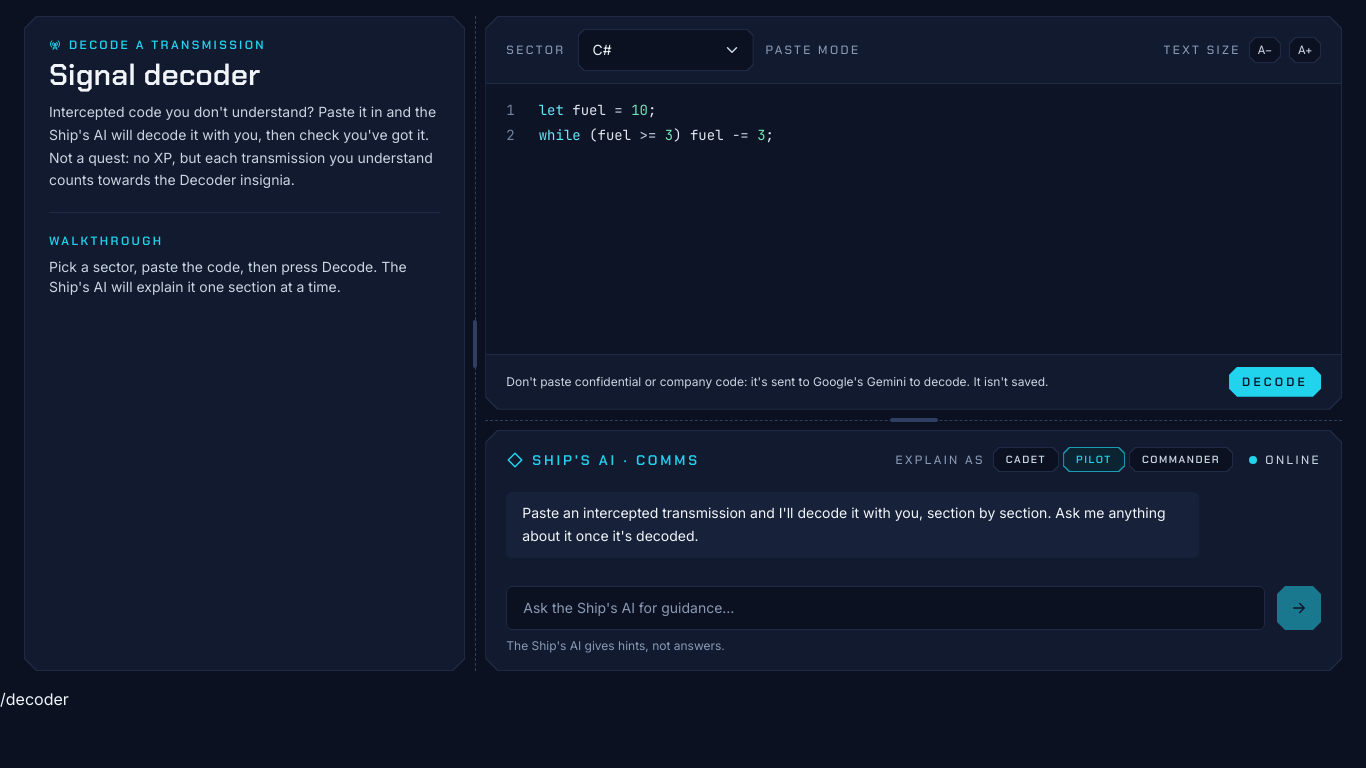
Test case: DecoderPage › the finished popup can start a new transmission
This screenshot has width=1366, height=768.
Click the button "Decode" at (1275, 382), box [1229, 367, 1321, 397]
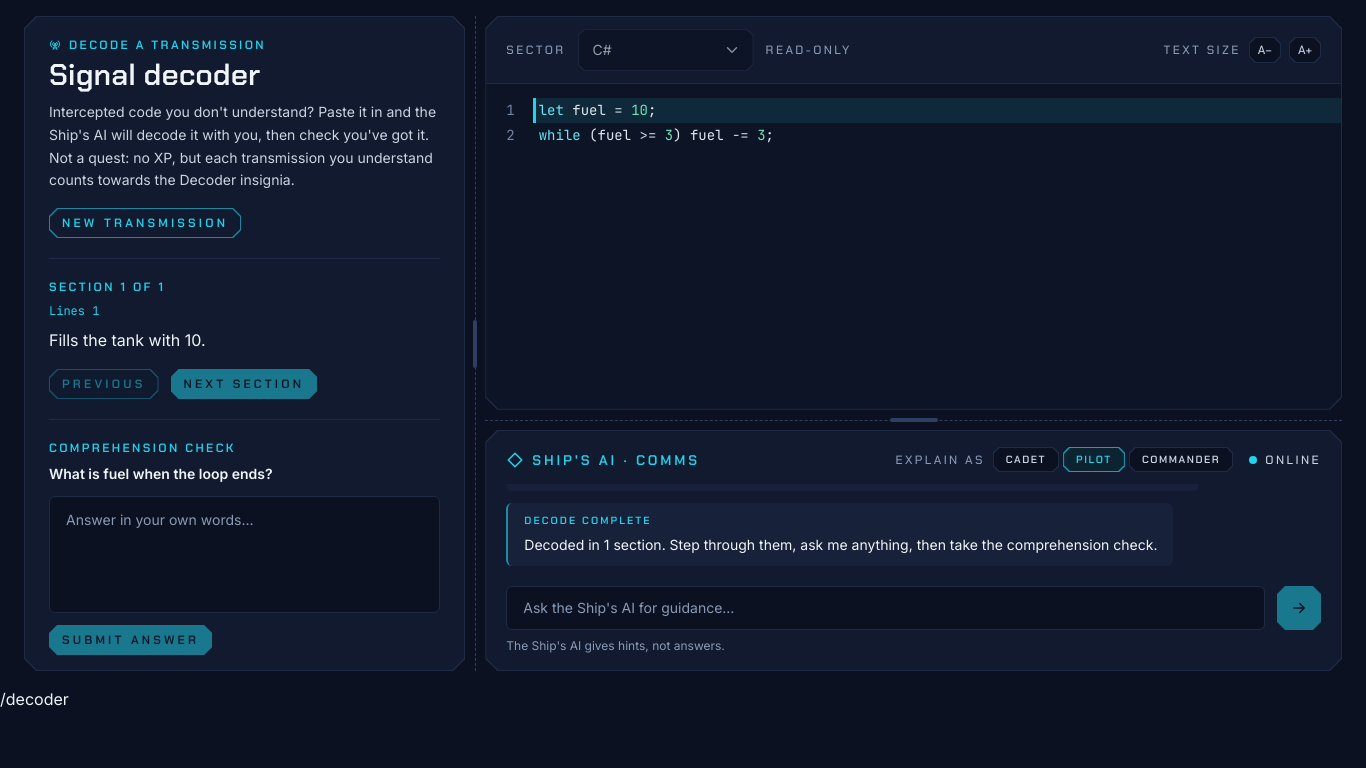
Type "It ends at 1." into the text box named "Your answer" at (245, 554), box [49, 496, 440, 613]
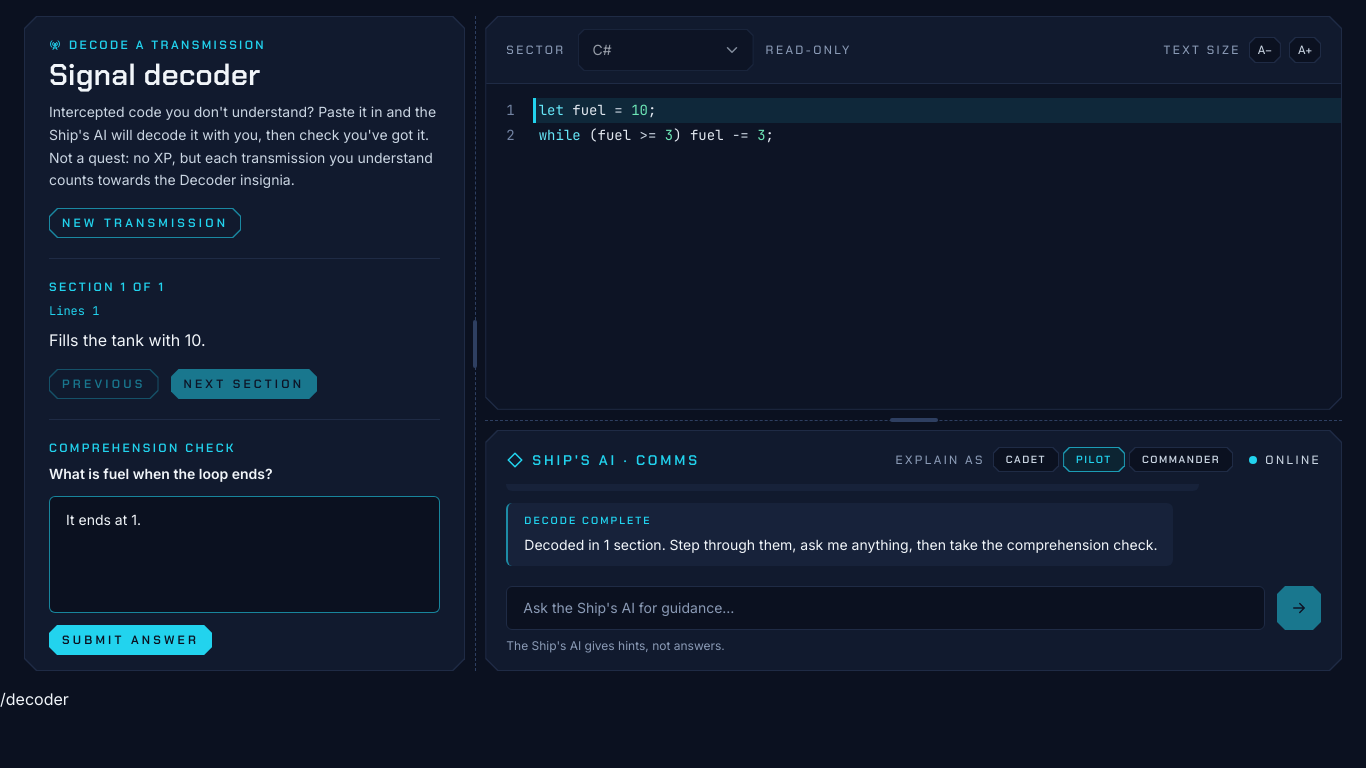
Click the button "Submit answer" at (131, 640), box [49, 625, 212, 655]
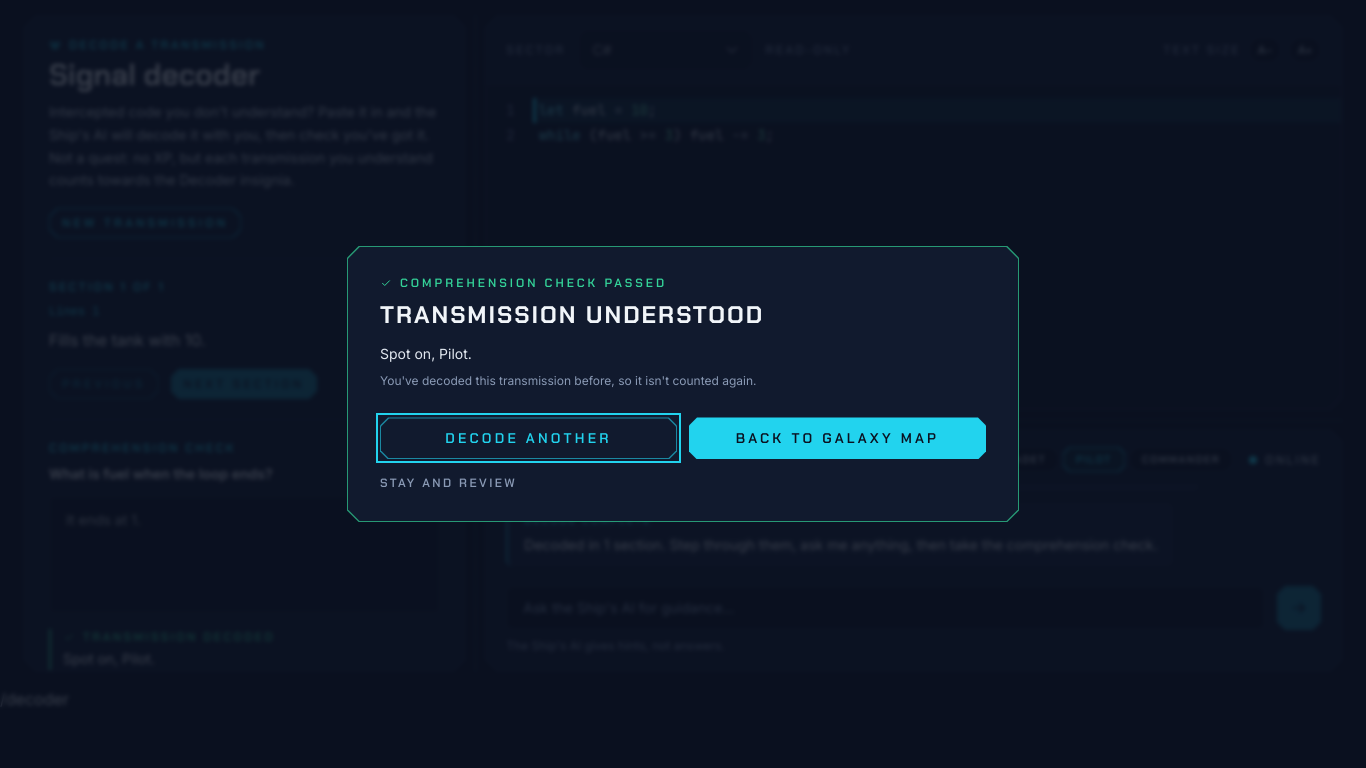
Expected: the dialog "Transmission understood" is shown, [347, 246, 1019, 522]
Expected: the dialog shows "You've decoded this transmission before", [380, 373, 756, 388]
Click the button "Decode another" at (528, 438), box [380, 417, 677, 459]
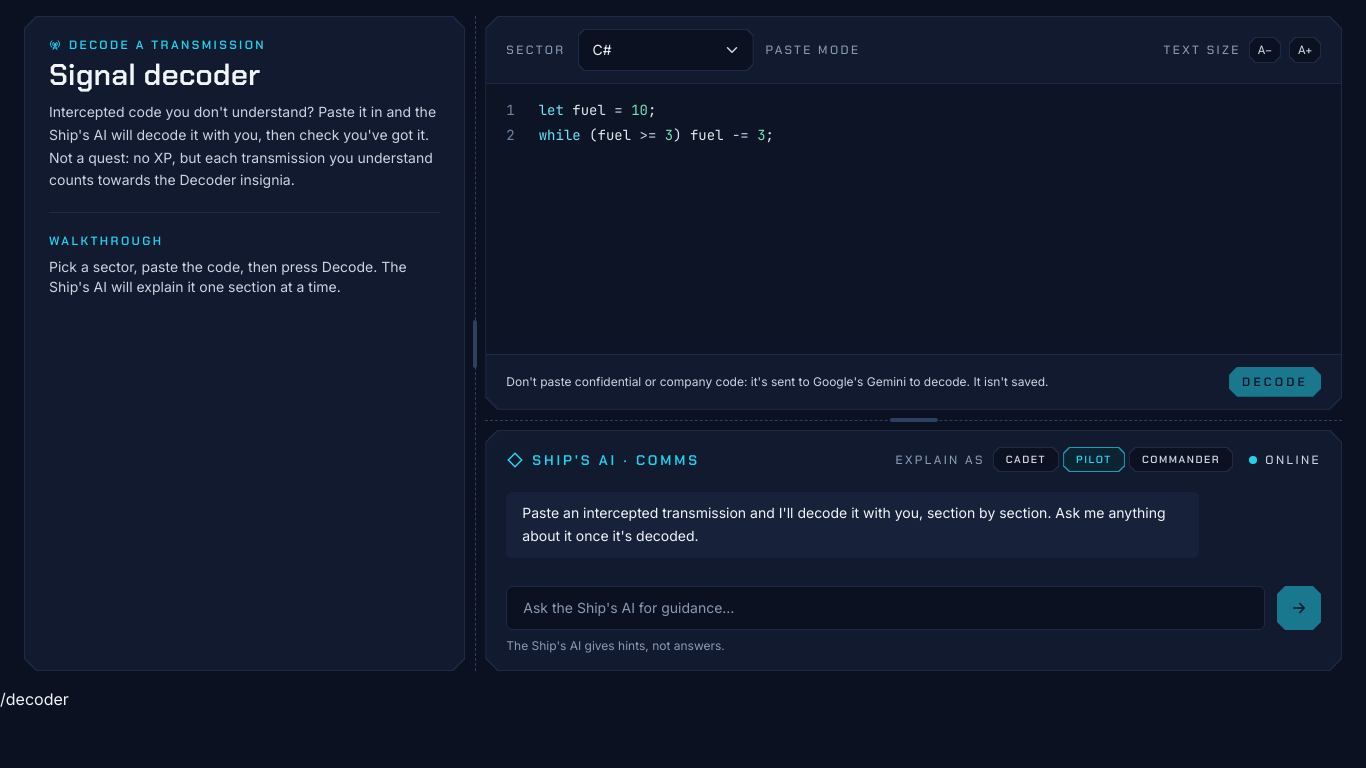
Expected: the button "Decode" is disabled, [1229, 367, 1321, 397]
Expected: the dialog is gone
Expected: the heading "Walkthrough" is shown, [49, 233, 163, 249]
